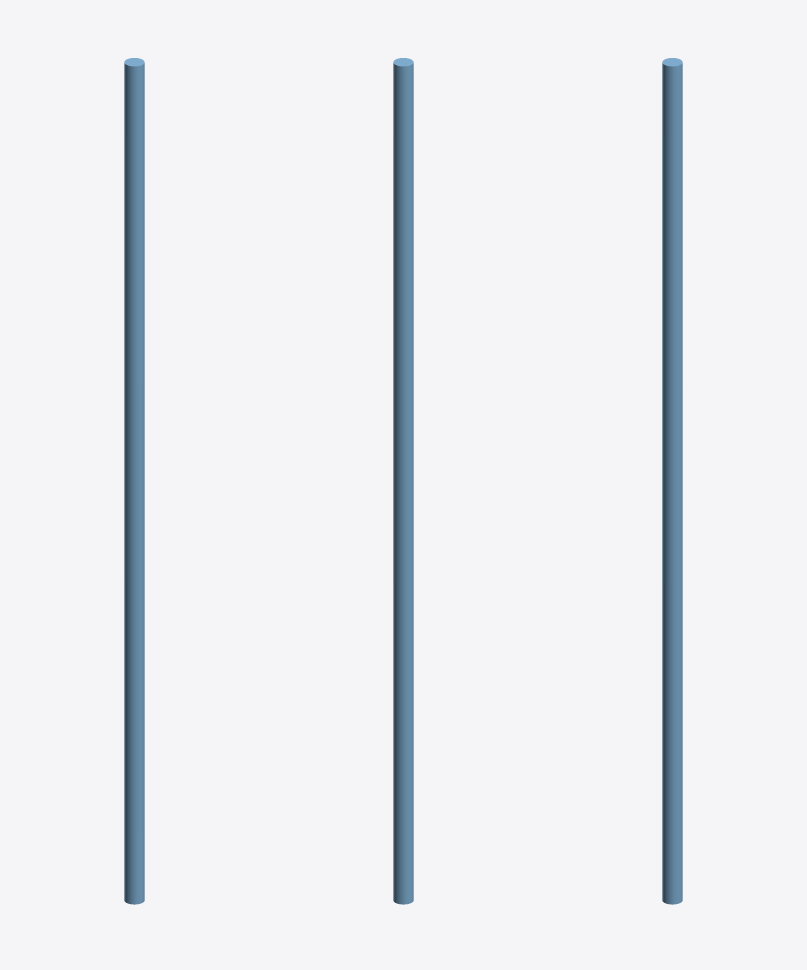
File: stick_w_collider.glb
3 renders of one model, left to right at view 1: azimuth 30°, elevation 25°; view 2: azimuth 150°, elevation 25°; view 3: azimuth 270°, elevation 25°, orthographic.
Visible parts, largest first — view 1: stick_collider; view 2: stick_collider; view 3: stick_collider.
Part boxes in pixels (x1=…): stick_collider: x1=124, y1=58, x2=144, y2=904; stick_collider: x1=393, y1=58, x2=413, y2=904; stick_collider: x1=662, y1=58, x2=682, y2=904.
Bounding box in the file's own units: 0.0323 × 0.1242 × 0.0322.
